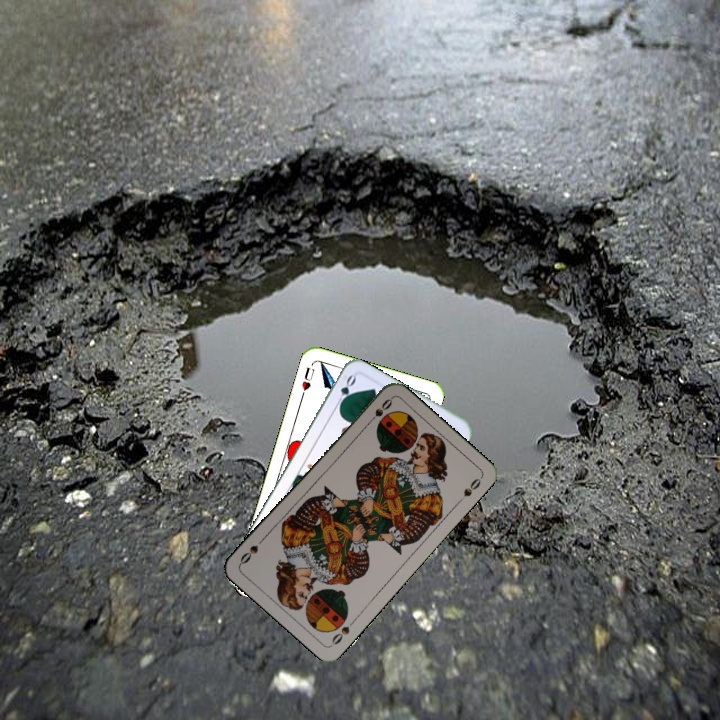GO: (331, 371, 359, 411)
HU: (297, 363, 317, 400)
SO: (363, 394, 395, 427), (328, 615, 359, 647)
